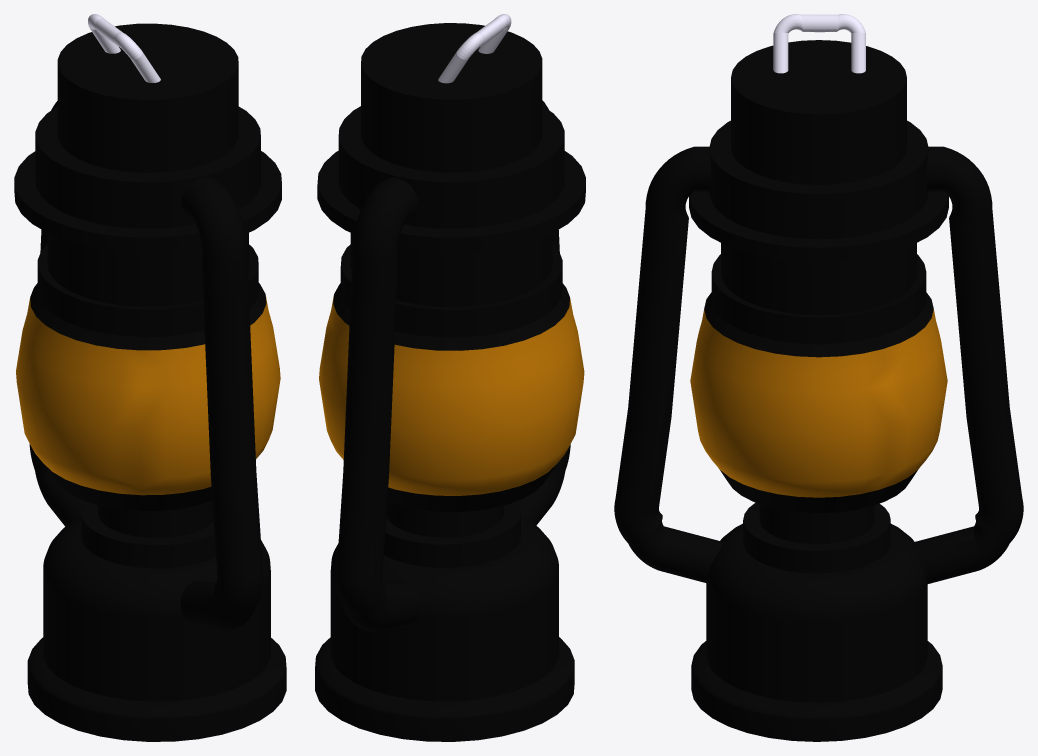
Rendered from Lampa234.obj.
The picture shows the model from 3 angles, left to right: view 1: azimuth 30°, elevation 25°; view 2: azimuth 150°, elevation 25°; view 3: azimuth 270°, elevation 25°; orthographic projection. The views are drawn at different scales.
Visible parts, largest first — view 1: Cylinder.001; view 2: Cylinder.001; view 3: Cylinder.001.
Part boxes in pixels (bbox=[...]): Cylinder.001: bbox=[14, 14, 286, 741]; Cylinder.001: bbox=[315, 14, 585, 741]; Cylinder.001: bbox=[614, 14, 1023, 741].
Bounding box in the file's own units: 3.18 × 8.63 × 4.91.
